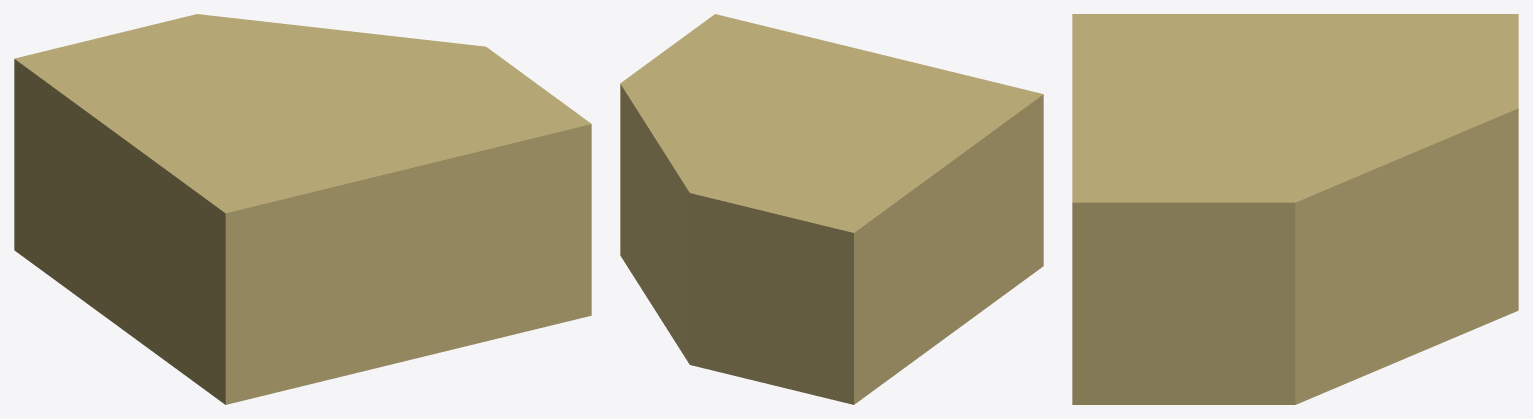
The picture shows the model from 3 angles, left to right: view 1: azimuth 30°, elevation 25°; view 2: azimuth 150°, elevation 25°; view 3: azimuth 270°, elevation 25°; orthographic projection. The views are drawn at different scales.
Parts seen in each view (by area): view 1: GAP-22-R-BASE-R17; view 2: GAP-22-R-BASE-R17; view 3: GAP-22-R-BASE-R17.
Part boxes in pixels (<box>): GAP-22-R-BASE-R17: <box>14,14,591,404</box>; GAP-22-R-BASE-R17: <box>620,14,1043,404</box>; GAP-22-R-BASE-R17: <box>1072,14,1518,404</box>.
Bounding box in the file's own units: 0.09 × 0.045 × 0.09.
